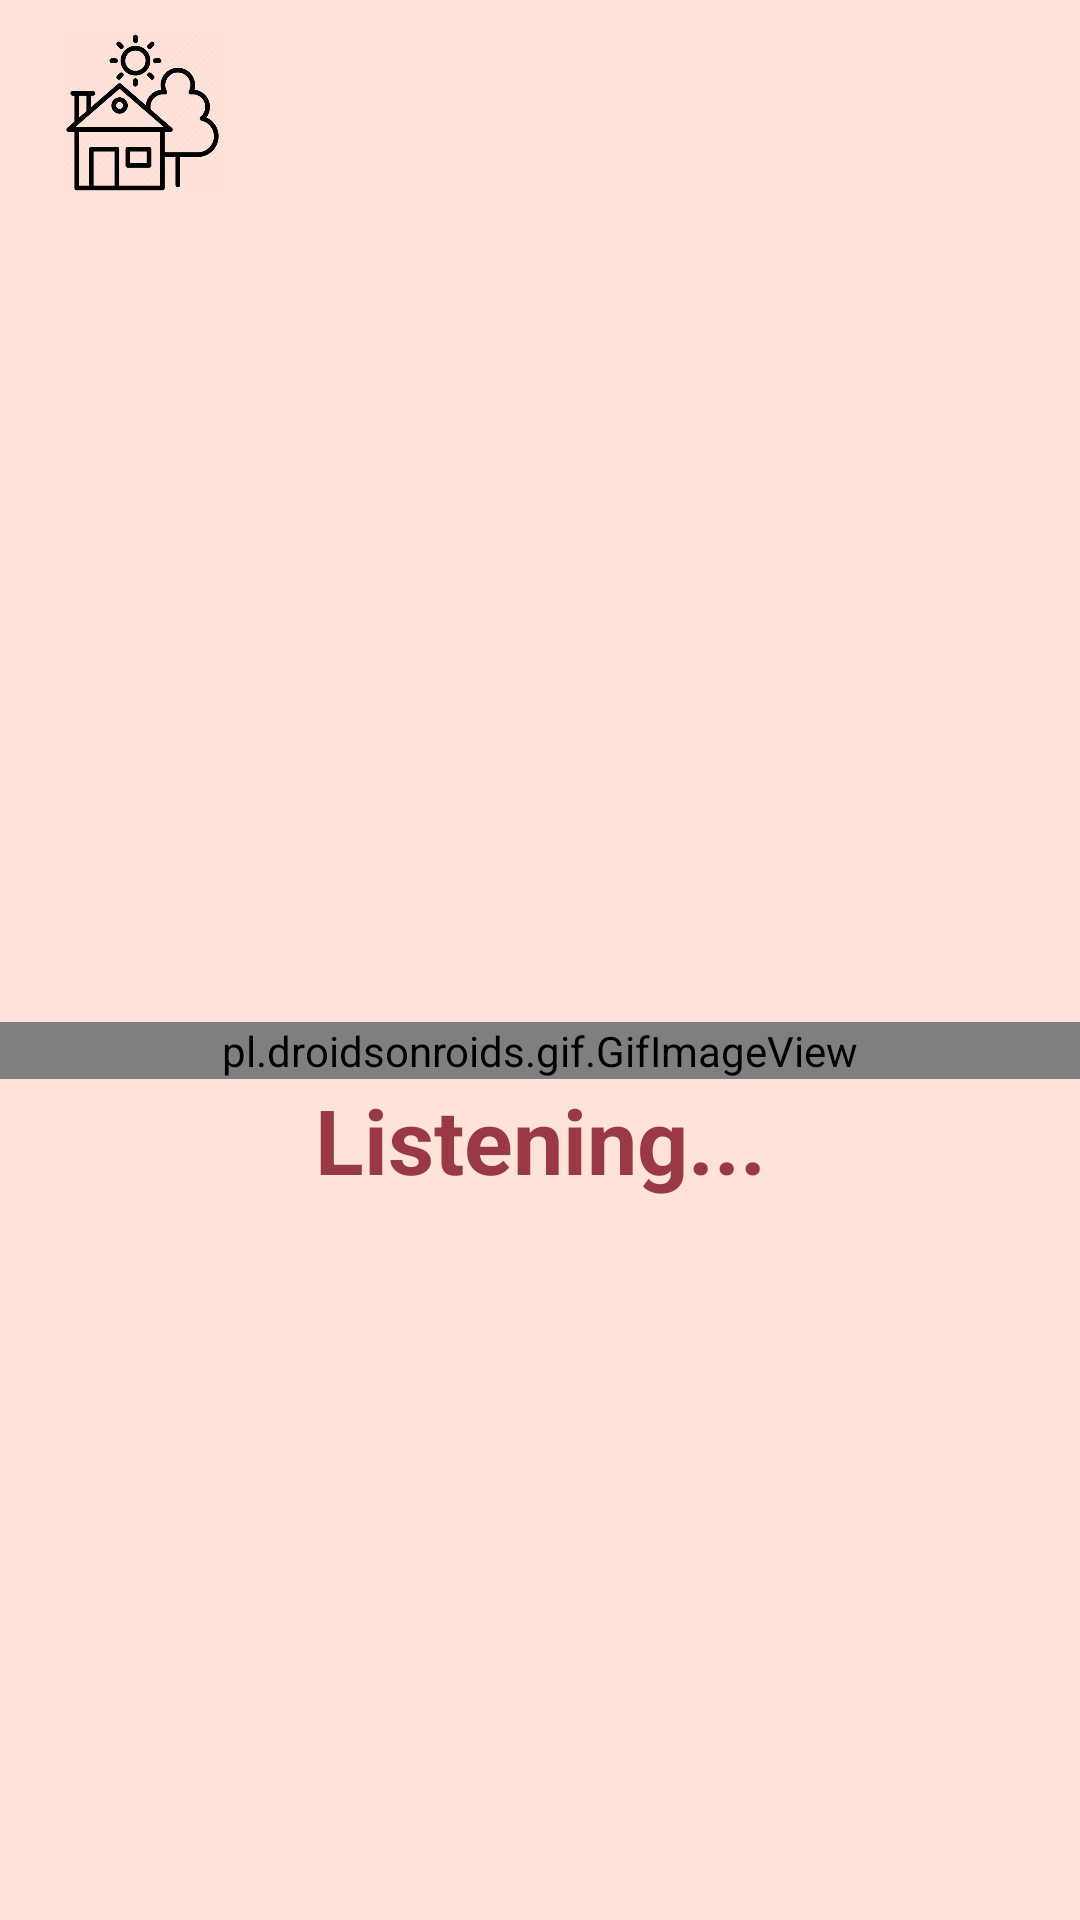

Where to tap for icons on this 1080x1920 app screen, as (x,y):
house: (142,112)
